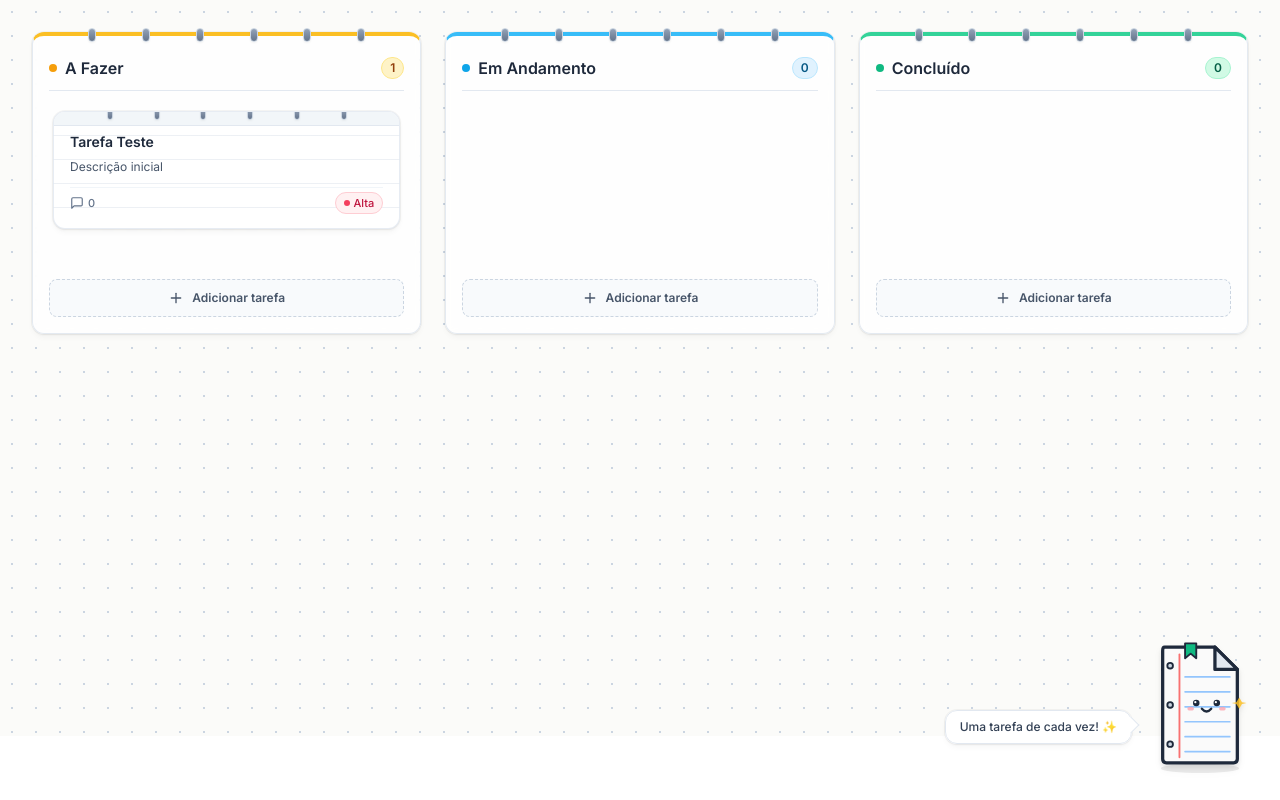
it: PaginaQuadro › atualiza uma tarefa existente
Click the heading "Tarefa Teste": (112, 142) [70,133,154,150]
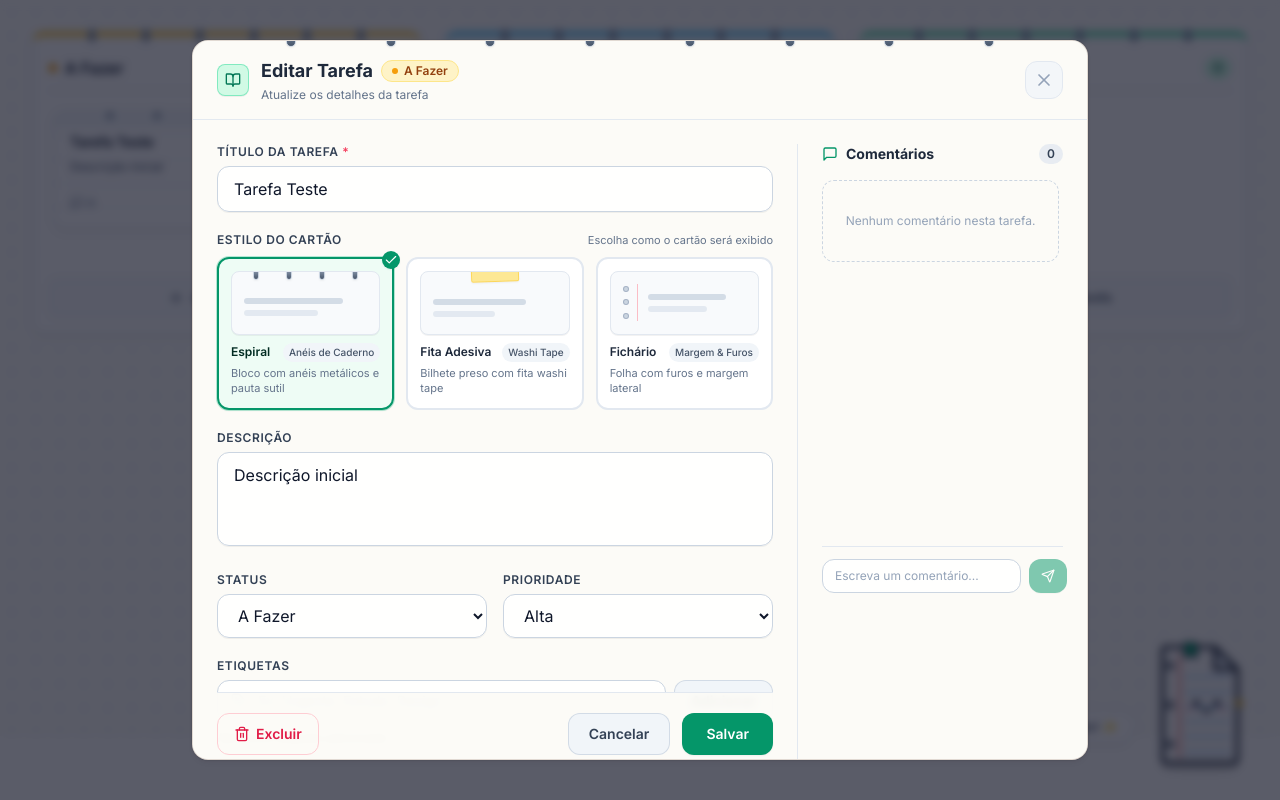
Replace the text in the field showing "Tarefa Teste" with "Tarefa Atualizada": (495, 189) [217,166,773,212]
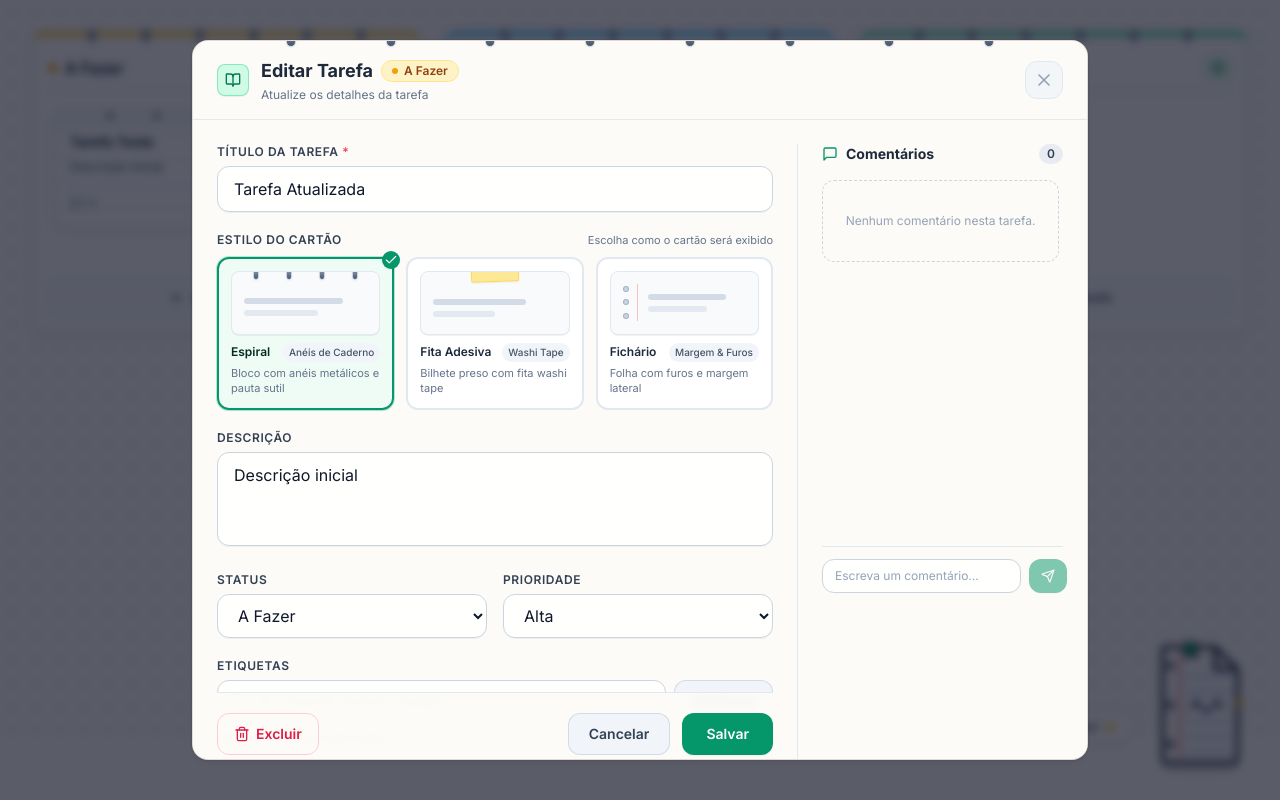
Click the button "Salvar": (728, 734) [682,713,773,755]
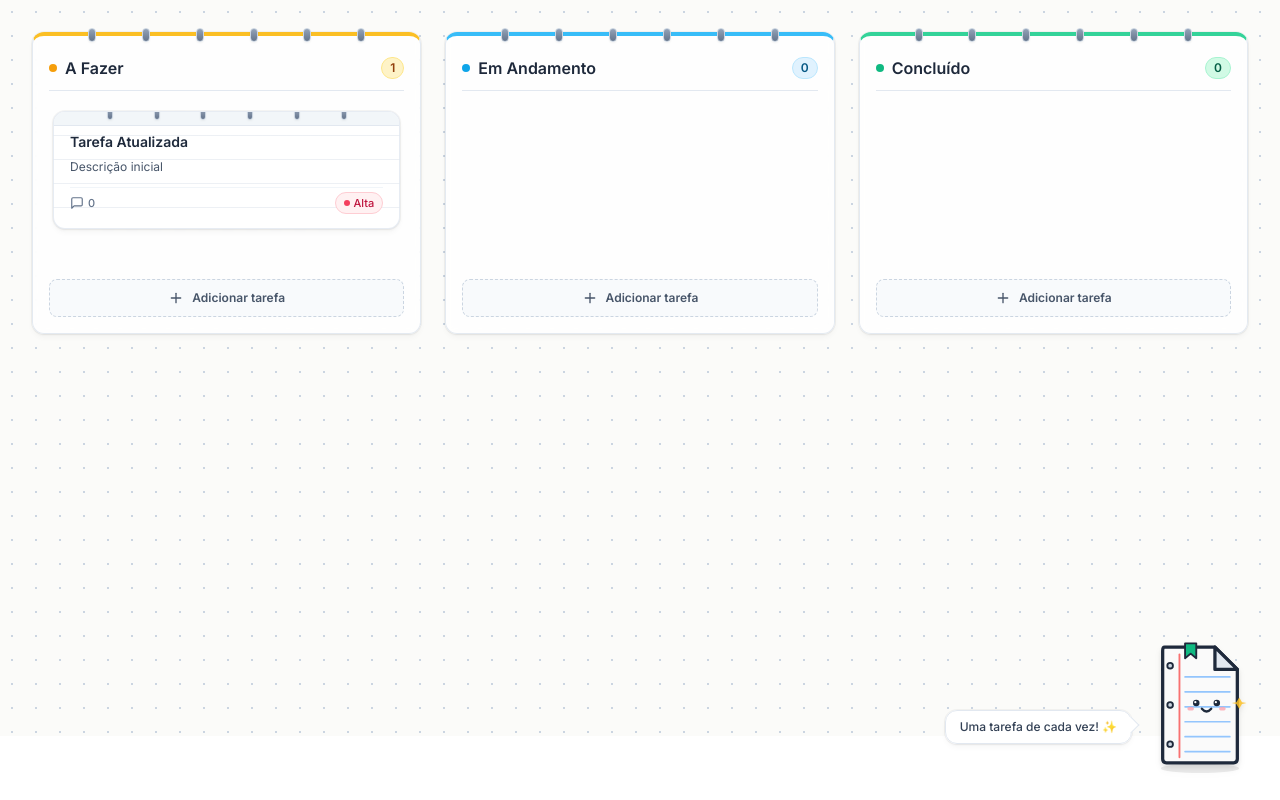
Expected: the heading "Tarefa Atualizada" is shown, [70,133,188,150]
